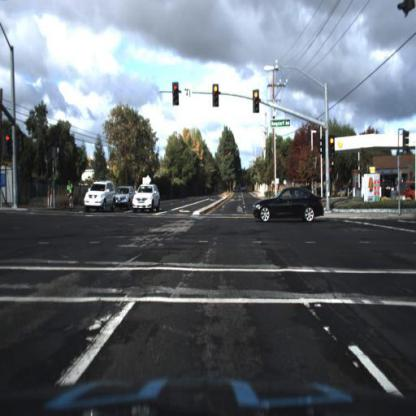biker: (65, 179, 77, 212)
car: (252, 182, 329, 229), (83, 176, 117, 212), (132, 184, 161, 214), (116, 184, 133, 211), (401, 179, 416, 202)
trafficLight-Red: (253, 90, 260, 118), (213, 84, 220, 105), (328, 136, 335, 149)
trafficLight-RedLeft: (172, 83, 181, 106)
